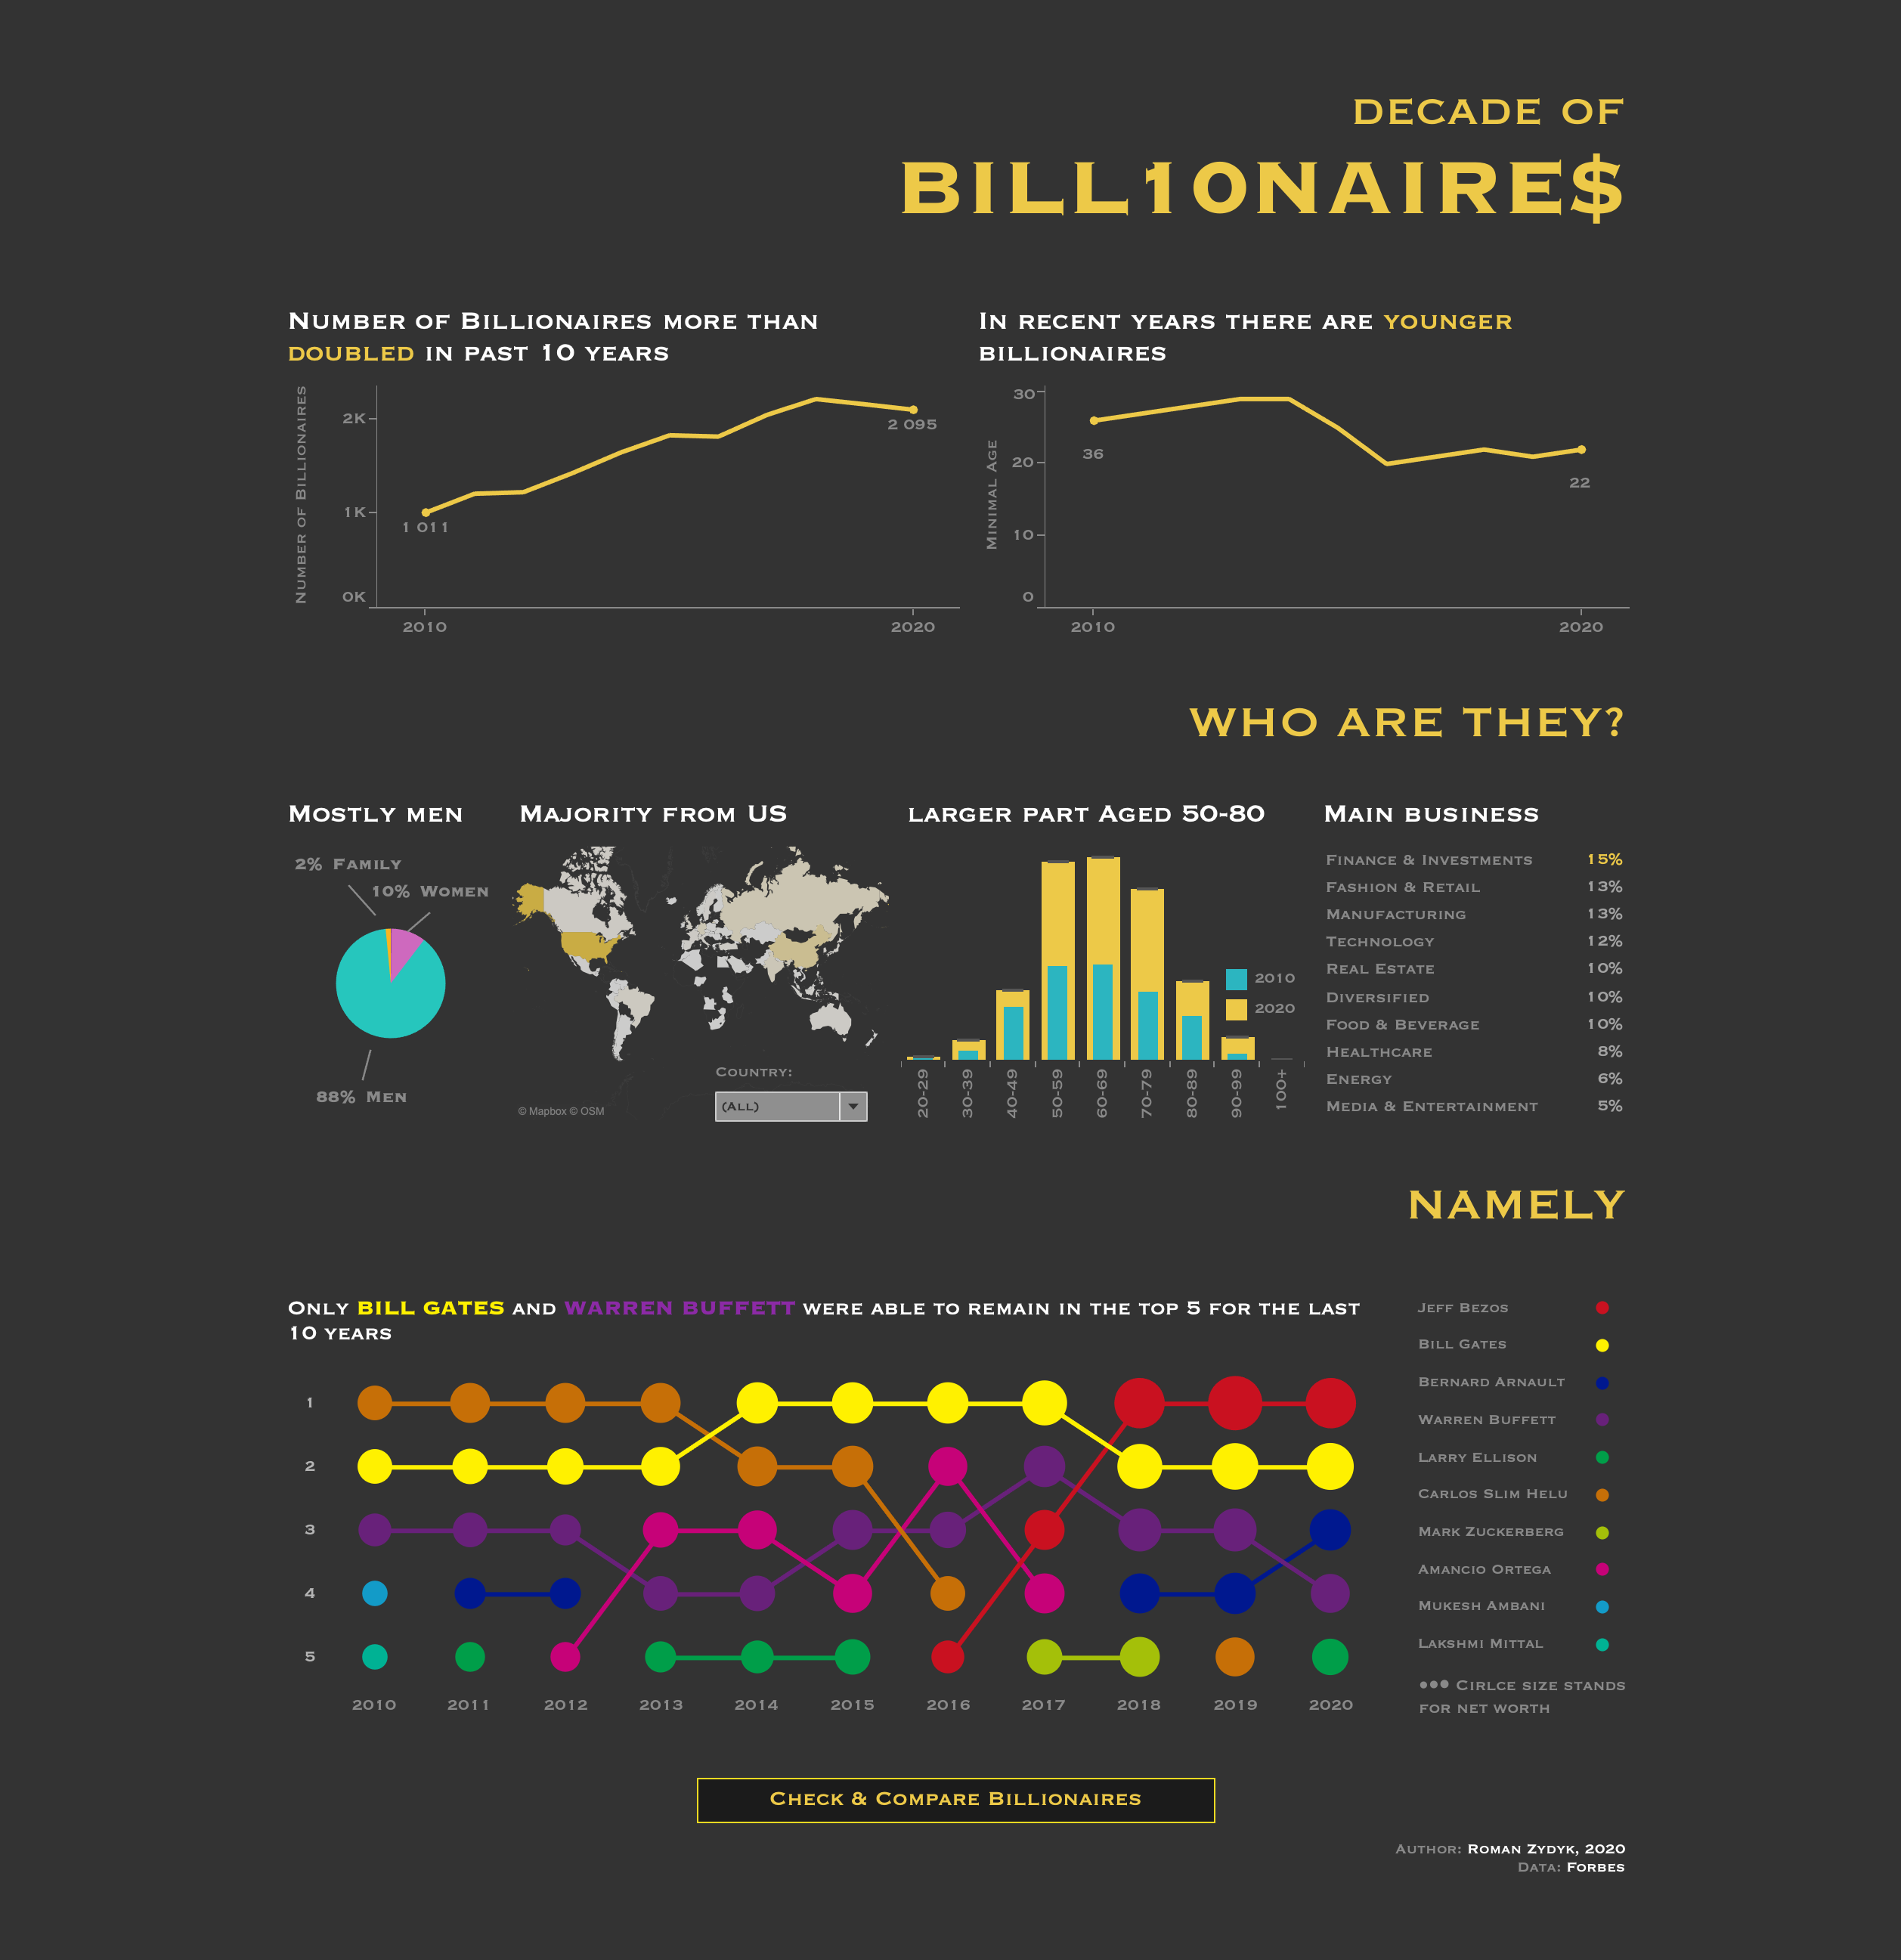

The page's visual inventory and layout, read from the dashboard file:
{"tool":"tableau","page":{"name":"Billionaires","canvas":[1000,1300],"ordinal":1},"visuals":[{"type":"worksheet","box":[0,0,1000,1300]},{"type":"worksheet","param":"horz","box":[50,50,900,1092.3]},{"type":"worksheet","param":"horz","box":[50,50,900,1092.3]},{"type":"worksheet","param":"horz","box":[50,50,900,1092.3]},{"type":"worksheet","param":"horz","box":[50,50,900,1092.3]},{"type":"worksheet","box":[50,50,900,1092.3]},{"type":"worksheet","param":"horz","box":[50,50,900,1092.3]},{"type":"worksheet","param":"horz","box":[50,50,900,1092.3]},{"type":"worksheet","box":[50,50,900,1092.3]},{"type":"worksheet","param":"vert","box":[50,50,900,385.8]},{"type":"worksheet","box":[50,50,900,112]},{"type":"worksheet","box":[50,162,900,32]},{"type":"worksheet","param":"horz","box":[50,194,900,241.8]},{"type":"worksheet","title":"Count of Billionaires over Time","mark":"Automatic","rows":["Calculation_25192022645624839"],"cols":["year"],"box":[50,194,457.5,241.8]},{"type":"worksheet","title":"Min age","mark":"Automatic","rows":["Calculation_1613484947446124550"],"cols":["year"],"box":[507.5,194,442.5,241.8]},{"type":"worksheet","param":"vert","box":[50,435.8,900,706.5]},{"type":"worksheet","param":"horz","box":[50,435.8,900,84]},{"type":"worksheet","box":[50,435.8,900,84]},{"type":"worksheet","param":"horz","box":[50,519.8,900,225.4]},{"type":"worksheet","title":"CNT by Sex","mark":"Pie","box":[50,519.8,153,225.4]},{"type":"worksheet","title":"CNT by Country","mark":"Automatic","box":[203,519.8,257,225.4]},{"type":"worksheet","title":"Age distribution 2010 vs 2020","mark":"Bar","rows":["Age_2007 (copy)_25192022645207046","Count_avg (copy)_25192022643593218"],"cols":["Age_real (bin) 2"],"box":[460,519.8,275,225.4]},{"type":"worksheet","title":"CNT by Business","mark":"Automatic","rows":["industry"],"box":[735,519.8,215,225.4]},{"type":"worksheet","title":"Age distribution 2010 vs 2020","mark":"Bar","rows":["Age_2007 (copy)_25192022645207046","Count_avg (copy)_25192022643593218"],"cols":["Age_real (bin) 2"],"param":"[federated.13lstdg0nx5cx014gtuai0u1279q].[:Measure Names]","box":[676,638,73,43]},{"type":"worksheet","box":[291,699,104,22]},{"type":"worksheet","param":"horz","box":[338,721,107,23]},{"type":"worksheet","title":"CNT by Country","mark":"Automatic","param":"[federated.13lstdg0nx5cx014gtuai0u1279q].[none:country:nk]","box":[338,721,107,23]},{"type":"worksheet","box":[50,745.2,900,104]},{"type":"worksheet","param":"horz","box":[50,849.2,900,293]},{"type":"worksheet","title":"Top 5","mark":"Line","rows":["rank","rank"],"cols":["year"],"box":[50,849.2,750,293]},{"type":"worksheet","param":"vert","box":[800,849.2,150,293]},{"type":"worksheet","title":"Top 5 legend","mark":"Circle","rows":["name"],"box":[800,849.2,150,254.9]},{"type":"worksheet","box":[800,1104.1,150,38]},{"type":"worksheet","box":[50,1142.3,900,29.9]},{"type":"worksheet","box":[50,1172.1,275.1,37.6]},{"type":"worksheet","box":[325.1,1172.1,351.2,37.6]},{"type":"worksheet","box":[676.3,1172.1,273.7,37.6]},{"type":"worksheet","box":[50,1209.7,900,40.3]}]}

Visuals, with their boxes on the page's 1000x1300 design canvas (x1, y1, x2, y2). These are canvas units, not pixel positions in the 1901x1960 screenshot, which may show the page scaled, cropped or inside an application window:
worksheet: <bbox>0, 0, 1000, 1300</bbox>
worksheet: <bbox>50, 50, 950, 1142</bbox>
worksheet: <bbox>50, 50, 950, 1142</bbox>
worksheet: <bbox>50, 50, 950, 1142</bbox>
worksheet: <bbox>50, 50, 950, 1142</bbox>
worksheet: <bbox>50, 50, 950, 1142</bbox>
worksheet: <bbox>50, 50, 950, 1142</bbox>
worksheet: <bbox>50, 50, 950, 1142</bbox>
worksheet: <bbox>50, 50, 950, 1142</bbox>
worksheet: <bbox>50, 50, 950, 436</bbox>
worksheet: <bbox>50, 50, 950, 162</bbox>
worksheet: <bbox>50, 162, 950, 194</bbox>
worksheet: <bbox>50, 194, 950, 436</bbox>
"Count of Billionaires over Time" worksheet: <bbox>50, 194, 508, 436</bbox>
"Min age" worksheet: <bbox>508, 194, 950, 436</bbox>
worksheet: <bbox>50, 436, 950, 1142</bbox>
worksheet: <bbox>50, 436, 950, 520</bbox>
worksheet: <bbox>50, 436, 950, 520</bbox>
worksheet: <bbox>50, 520, 950, 745</bbox>
"CNT by Sex" worksheet (Pie marks): <bbox>50, 520, 203, 745</bbox>
"CNT by Country" worksheet: <bbox>203, 520, 460, 745</bbox>
"Age distribution 2010 vs 2020" worksheet (Bar marks): <bbox>460, 520, 735, 745</bbox>
"CNT by Business" worksheet: <bbox>735, 520, 950, 745</bbox>
"Age distribution 2010 vs 2020" worksheet (Bar marks): <bbox>676, 638, 749, 681</bbox>
worksheet: <bbox>291, 699, 395, 721</bbox>
worksheet: <bbox>338, 721, 445, 744</bbox>
"CNT by Country" worksheet: <bbox>338, 721, 445, 744</bbox>
worksheet: <bbox>50, 745, 950, 849</bbox>
worksheet: <bbox>50, 849, 950, 1142</bbox>
"Top 5" worksheet (Line marks): <bbox>50, 849, 800, 1142</bbox>
worksheet: <bbox>800, 849, 950, 1142</bbox>
"Top 5 legend" worksheet (Circle marks): <bbox>800, 849, 950, 1104</bbox>
worksheet: <bbox>800, 1104, 950, 1142</bbox>
worksheet: <bbox>50, 1142, 950, 1172</bbox>
worksheet: <bbox>50, 1172, 325, 1210</bbox>
worksheet: <bbox>325, 1172, 676, 1210</bbox>
worksheet: <bbox>676, 1172, 950, 1210</bbox>
worksheet: <bbox>50, 1210, 950, 1250</bbox>
